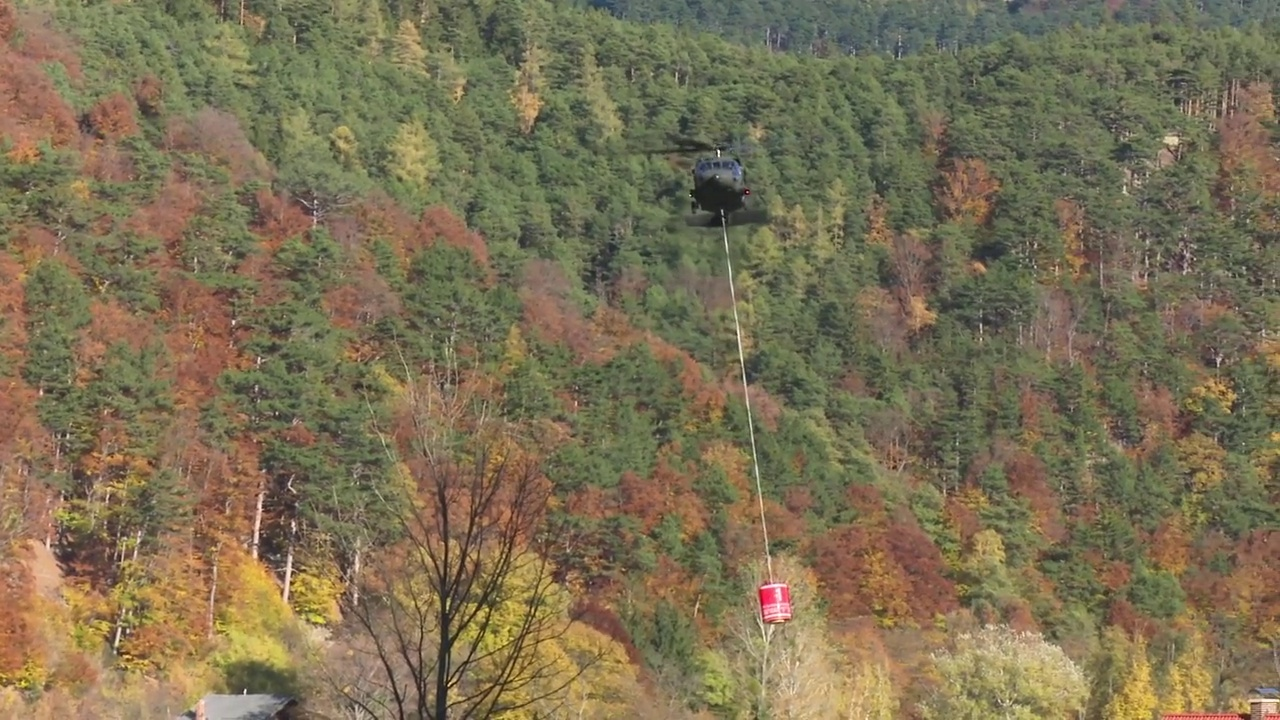heli: (664, 134, 768, 227)
